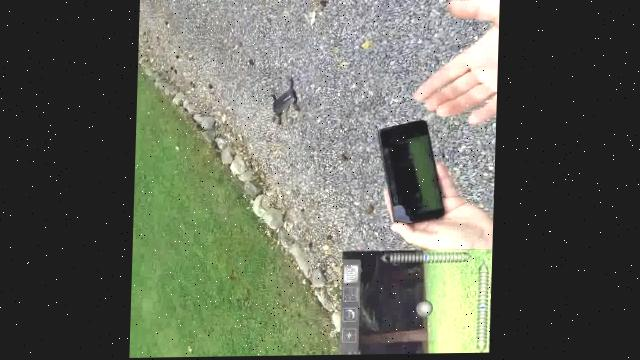drone: (259, 57, 316, 146)
